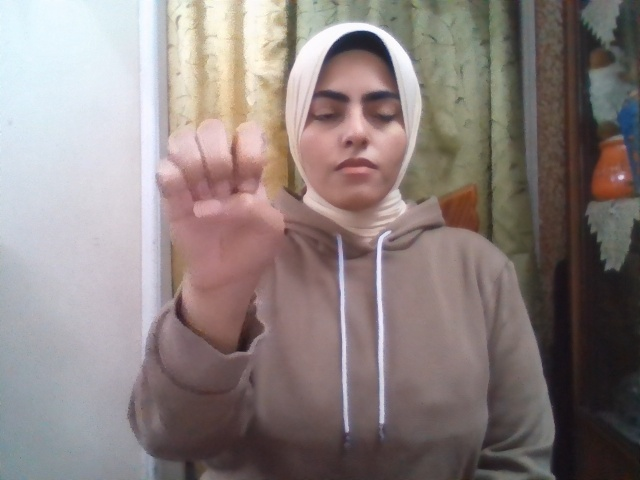E: (155, 119, 285, 294)
